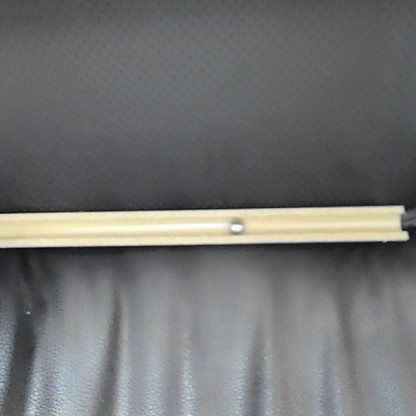ironball: (224, 214, 247, 235)
